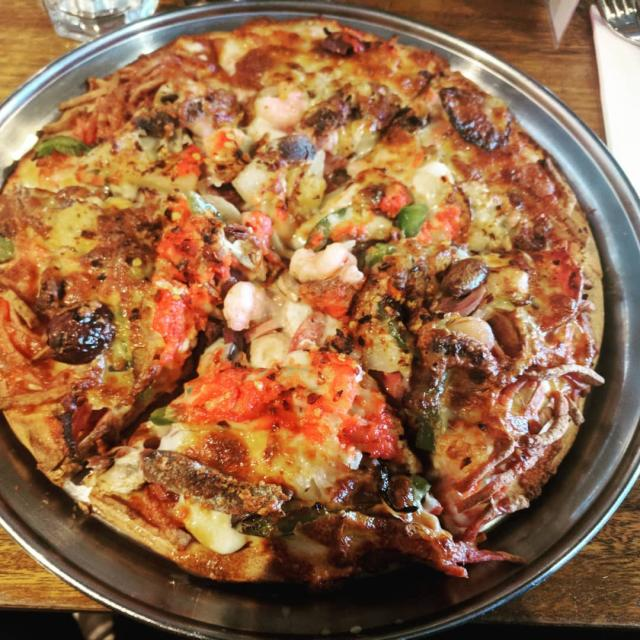basil: (304, 203, 432, 268), (36, 136, 94, 164)
black_olives: (43, 302, 118, 366), (439, 256, 491, 299), (321, 31, 364, 54)
pizza: (0, 15, 609, 598)
